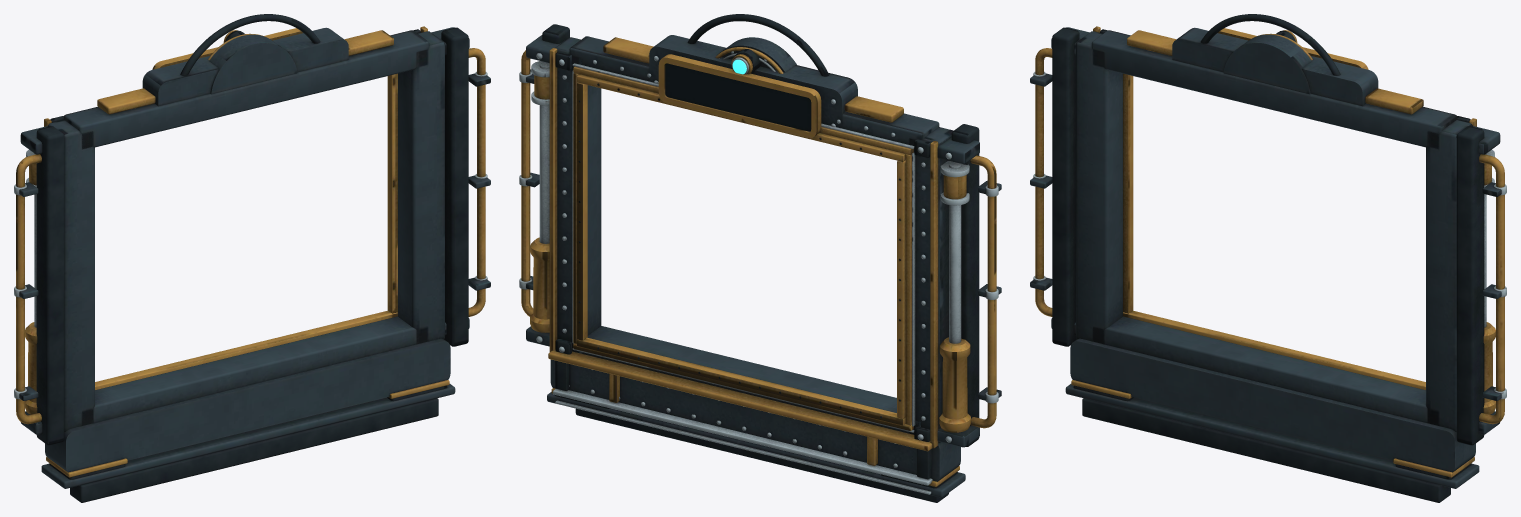
The picture shows the model from 3 angles, left to right: view 1: azimuth 30°, elevation 25°; view 2: azimuth 150°, elevation 25°; view 3: azimuth 330°, elevation 25°; orthographic projection.
Visible parts, largest first — view 1: Armored_steel, Black_steel, Engraved_brass, Chrome; view 2: Armored_steel, Engraved_brass, Chrome, Black_steel, Dark_enamel; view 3: Armored_steel, Black_steel, Engraved_brass, Chrome.
Part boxes in pixels (<box>): Armored_steel: <box>19,27,490,488</box>; Black_steel: <box>36,14,468,502</box>; Engraved_brass: <box>16,26,485,477</box>; Chrome: <box>14,71,487,399</box>; Armored_steel: <box>526,35,1001,497</box>; Engraved_brass: <box>521,37,996,486</box>; Chrome: <box>519,51,998,494</box>; Black_steel: <box>542,14,979,502</box>; Dark_enamel: <box>665,63,811,131</box>; Armored_steel: <box>1030,27,1501,488</box>; Black_steel: <box>1052,14,1484,502</box>; Engraved_brass: <box>1035,26,1504,477</box>; Chrome: <box>1033,71,1506,399</box>.
Bounding box in the file's own units: 10.41 × 9.2 × 1.16.
Materials: 6 (5 with a texture image).
